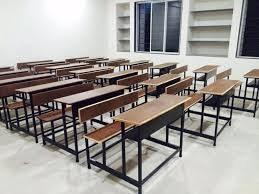Bench: (82, 104, 185, 168), (37, 91, 122, 148), (147, 76, 228, 133), (97, 73, 154, 109)
